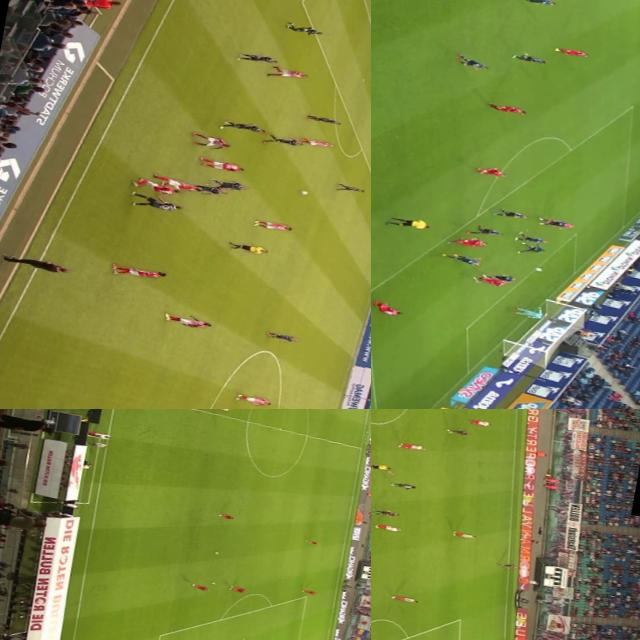ball: (297, 186, 312, 196), (530, 265, 545, 273), (210, 550, 222, 556), (208, 580, 215, 585)
player: (129, 190, 187, 214), (107, 262, 170, 283), (132, 176, 183, 197), (162, 310, 215, 330), (152, 172, 201, 192), (438, 248, 486, 268), (465, 220, 506, 243), (449, 52, 490, 74), (195, 154, 244, 172), (506, 302, 548, 321), (234, 390, 273, 408), (469, 164, 507, 182), (488, 98, 528, 115), (371, 297, 406, 316), (486, 207, 529, 222), (503, 50, 545, 65), (270, 66, 309, 82), (188, 182, 232, 196), (226, 120, 264, 136), (266, 134, 304, 150), (208, 177, 246, 193), (446, 234, 486, 249), (516, 239, 550, 256), (286, 21, 322, 37), (238, 51, 276, 66), (262, 329, 300, 344), (253, 218, 292, 232), (194, 134, 228, 150), (306, 112, 344, 126), (548, 45, 588, 58), (472, 274, 509, 288), (479, 269, 516, 282), (515, 230, 548, 244), (538, 218, 574, 230), (303, 138, 338, 150), (336, 182, 366, 195), (538, 216, 570, 228), (510, 0, 555, 8), (371, 507, 400, 519), (371, 521, 401, 532), (396, 441, 424, 452), (464, 417, 492, 428), (388, 594, 418, 604), (386, 480, 416, 490), (449, 530, 476, 540), (444, 427, 471, 437), (188, 583, 212, 593), (297, 588, 319, 598), (229, 583, 248, 594), (302, 536, 319, 546), (497, 562, 518, 570), (218, 513, 234, 520), (207, 409, 232, 413)
